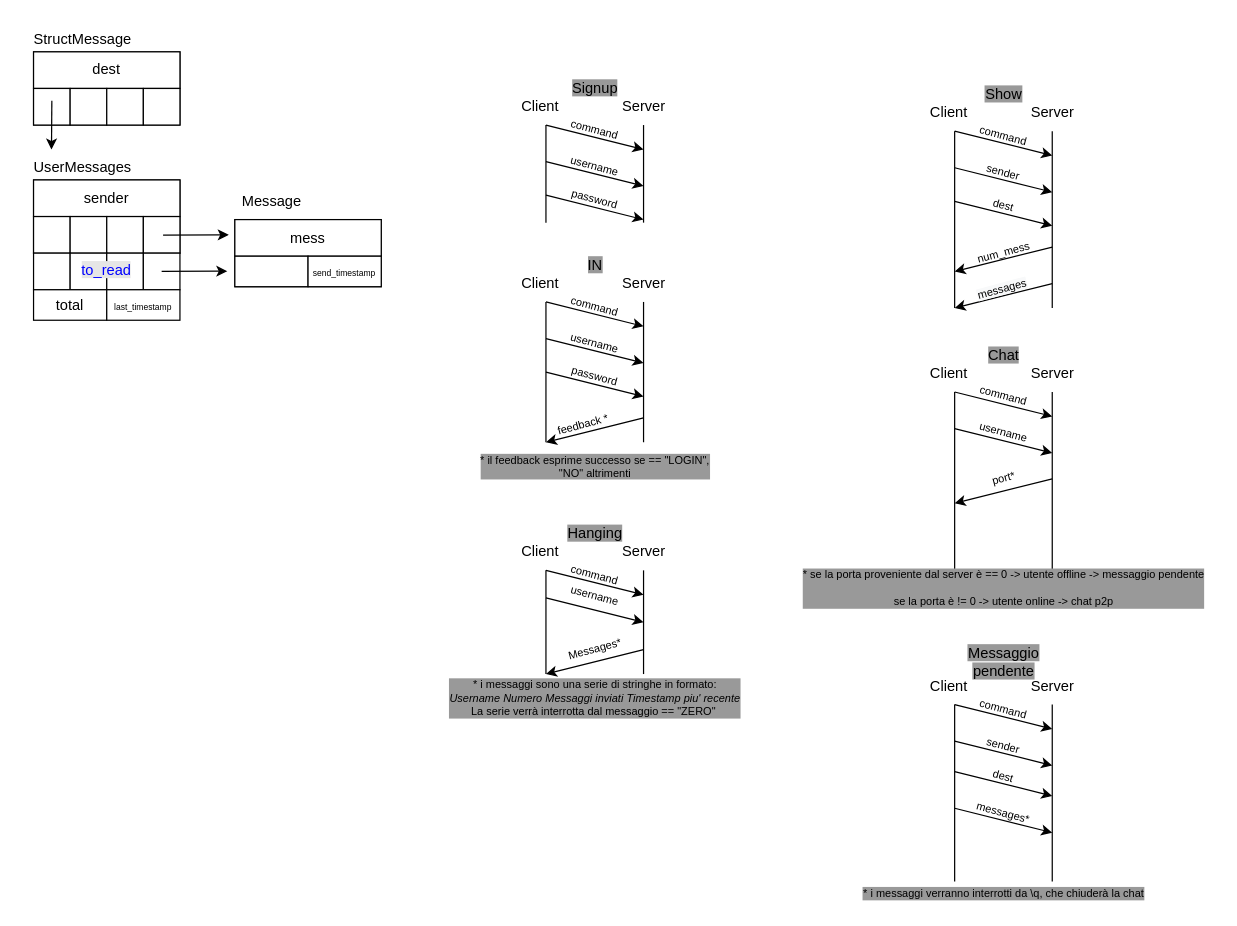
The diagram is 1237 pixels wide and 926 high, and some of its shapes have lost their labels. The shapes that lost their labels are listed below. From the top down, each one's box as (x1, y1, x2, y2) in pixels, then its label:
(106, 215, 143, 253): message_list
(234, 255, 308, 287): received
